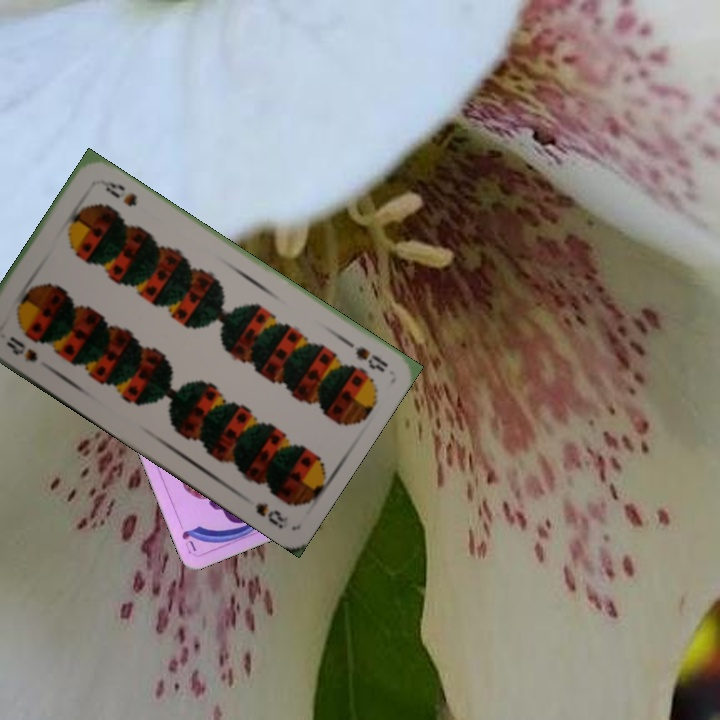S8: (339, 334, 392, 375), (2, 332, 40, 365)
